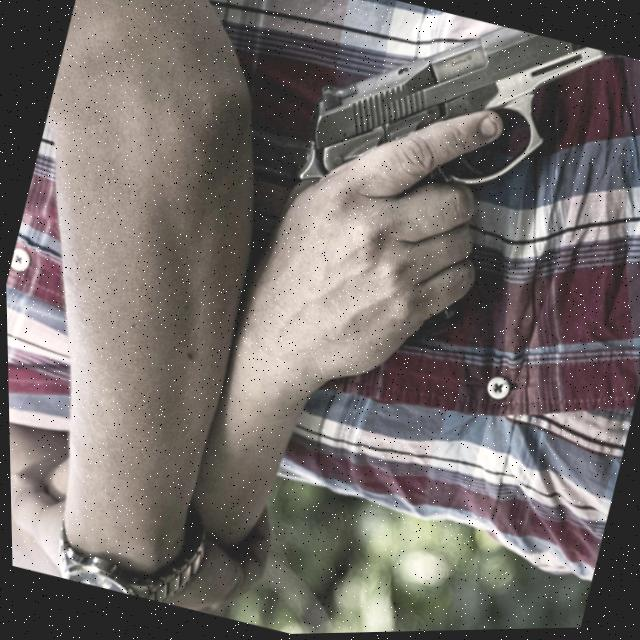pistol: (286, 0, 640, 261)
